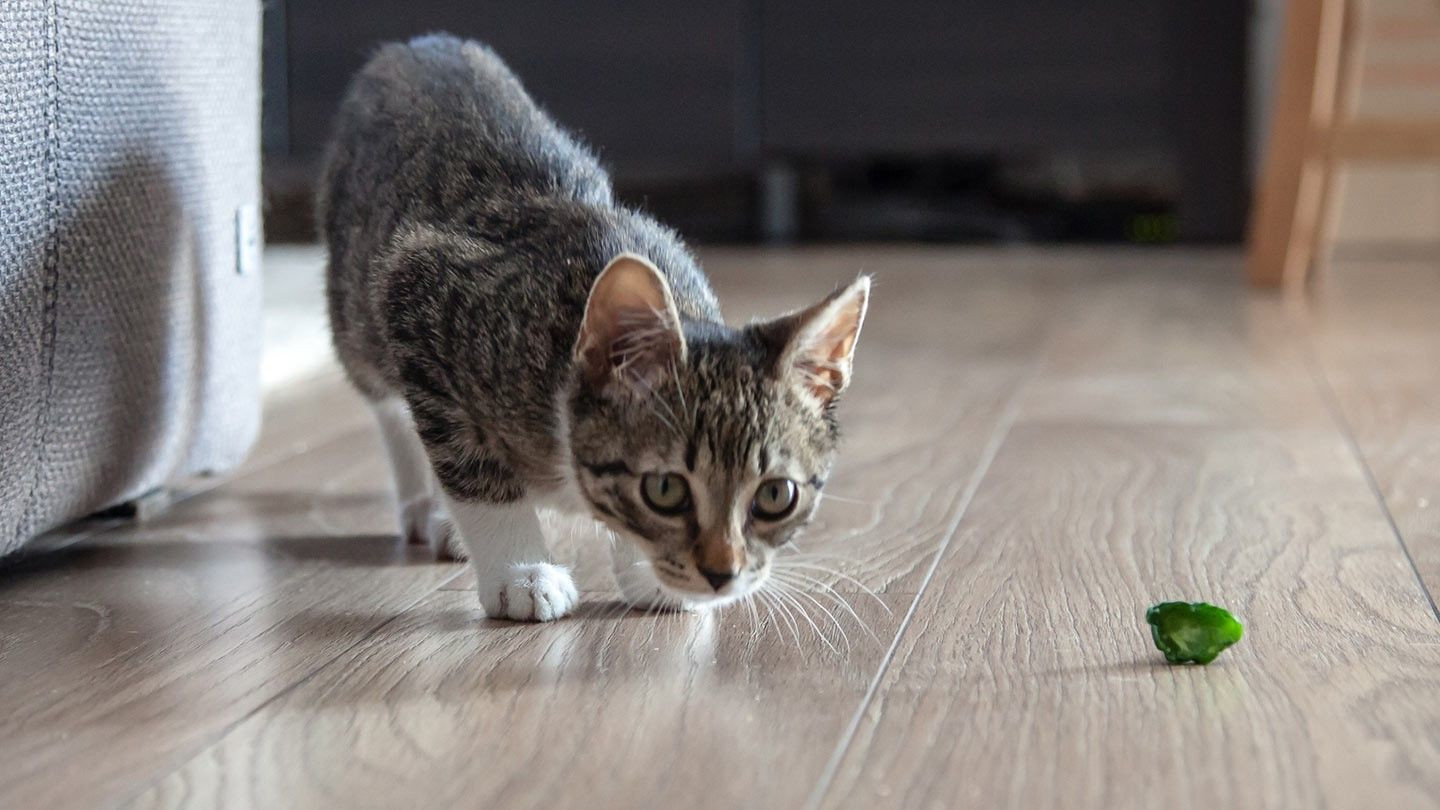cat: (315, 33, 875, 639)
